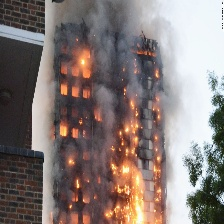fire: (106, 146, 147, 224), (152, 68, 163, 224), (119, 89, 145, 146), (67, 156, 82, 190), (79, 56, 88, 70)
smoke: (87, 2, 142, 111), (38, 4, 57, 222), (163, 13, 178, 219)
